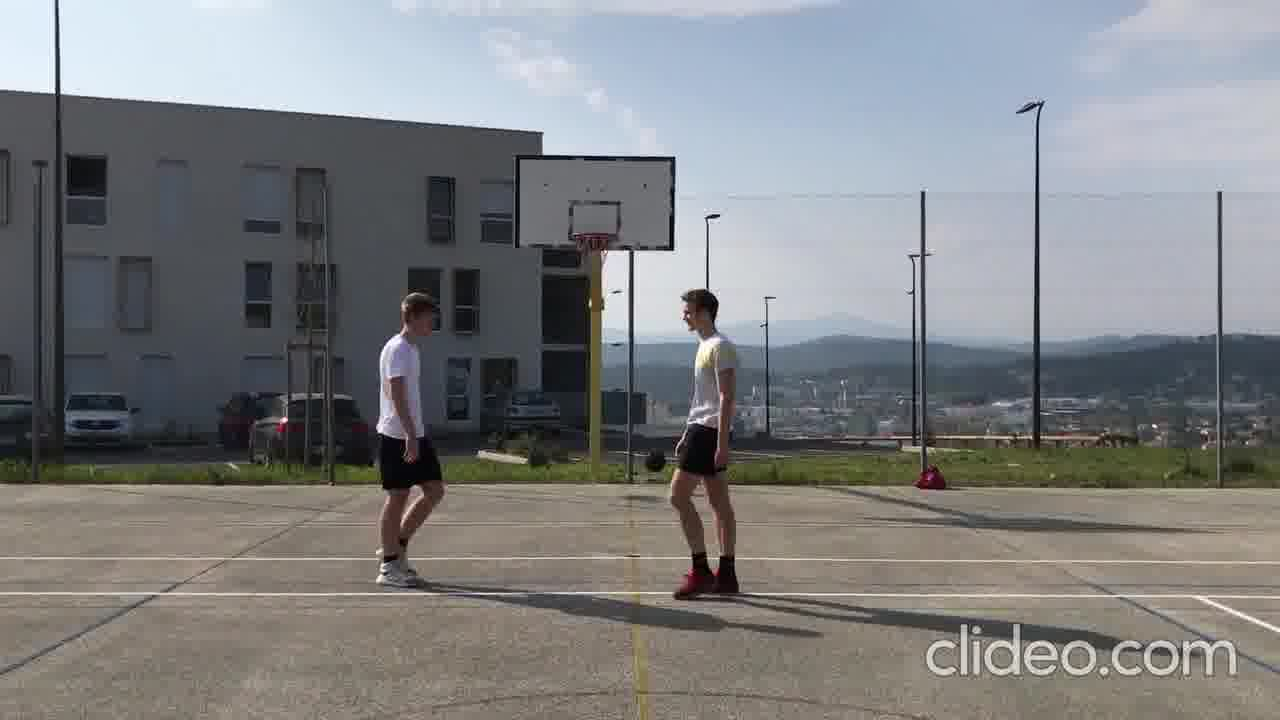jugador: (651, 282, 755, 604)
